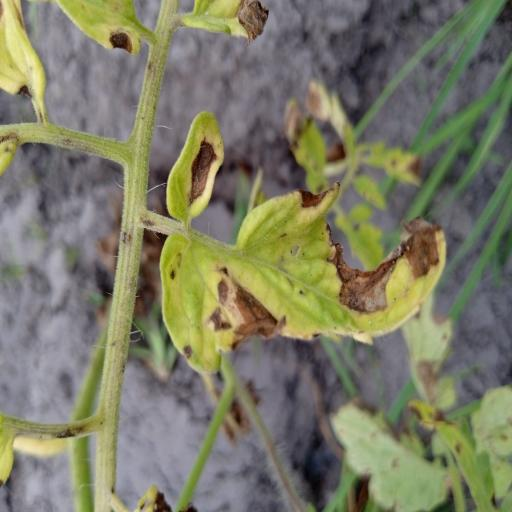Tomato_Brown_Spots: (158, 110, 447, 384)
